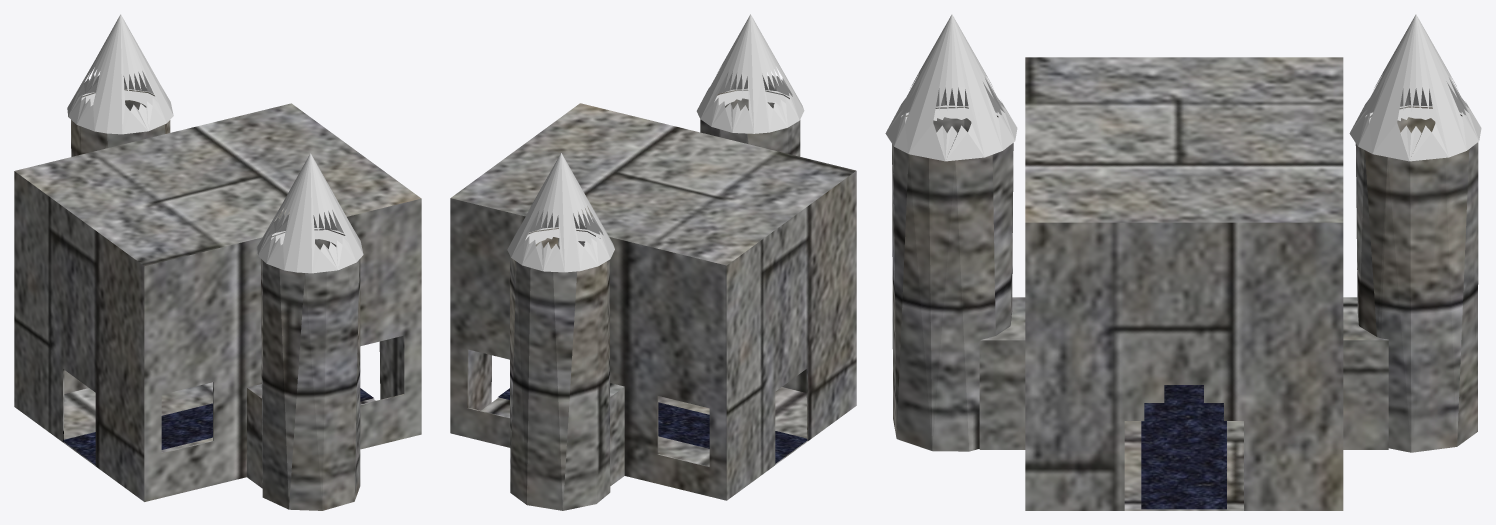
Rendered from castle.dae.
3 views of the same model, side by side, from view 1: azimuth 30°, elevation 25°; view 2: azimuth 150°, elevation 25°; view 3: azimuth 270°, elevation 25° (orthographic). The views are drawn at different scales.
Parts seen in each view (by area): view 1: Cube; view 2: Cube; view 3: Cube.
Boxes of the visible parts, x1,y1,x2,y2 form: Cube: [14, 14, 421, 510]; Cube: [450, 14, 856, 510]; Cube: [885, 14, 1481, 510].
Size of the model in its own units: 0.2009 by 0.3057 by 0.2336.
Materials: 1 (1 with a texture image).
